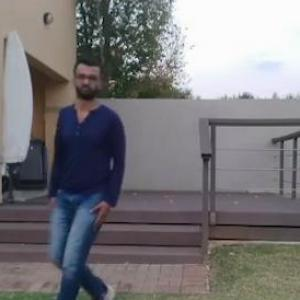follow: (42, 46, 141, 299)
